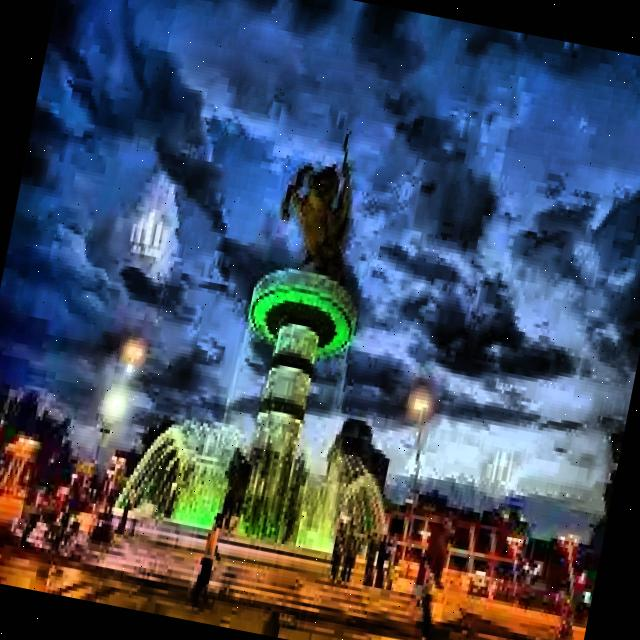alexander the great monument: (206, 117, 397, 539)
